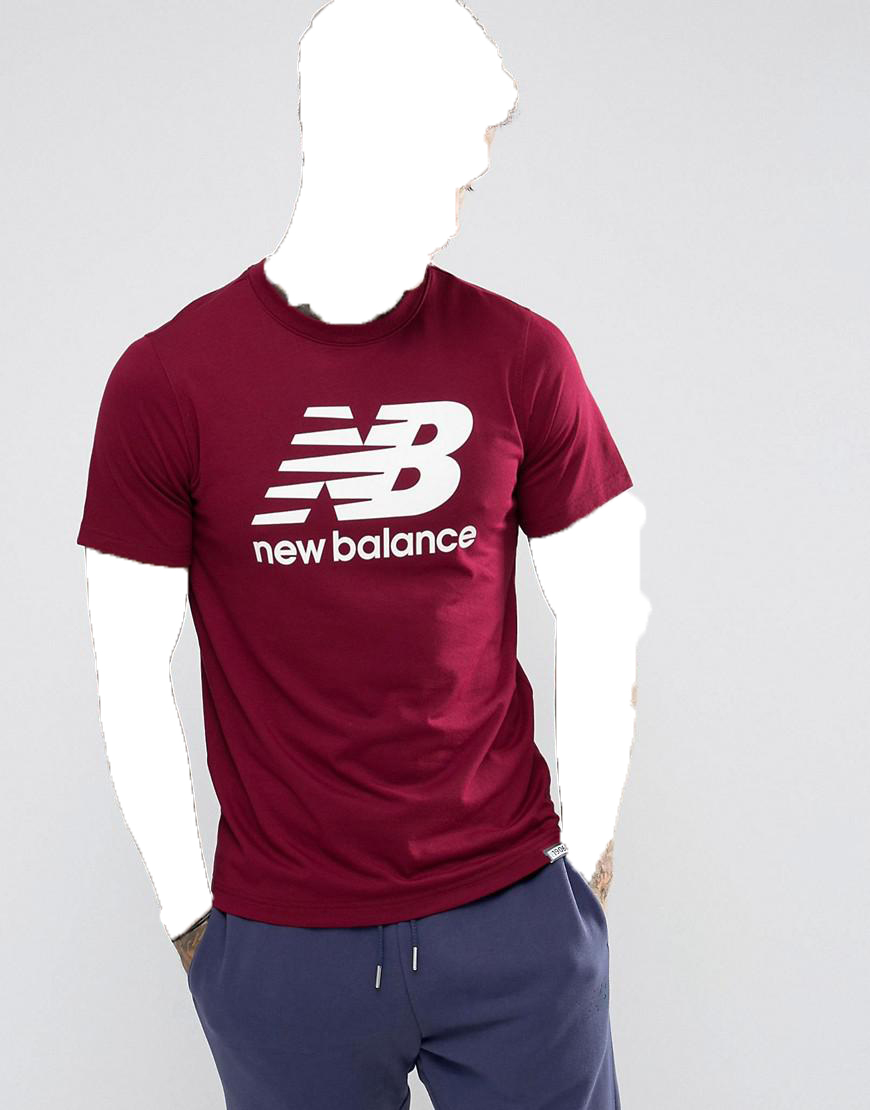teeshirt: (71, 257, 637, 910)
